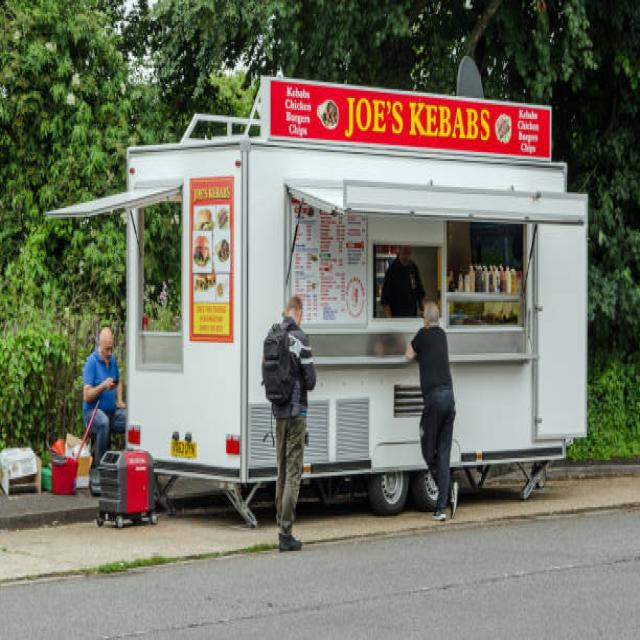Emperan: (71, 53, 598, 551)
